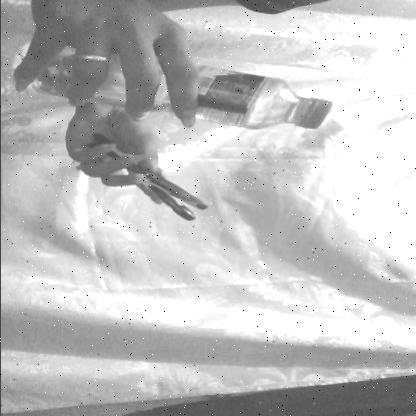Plastic Bottle: (0, 38, 380, 141)
